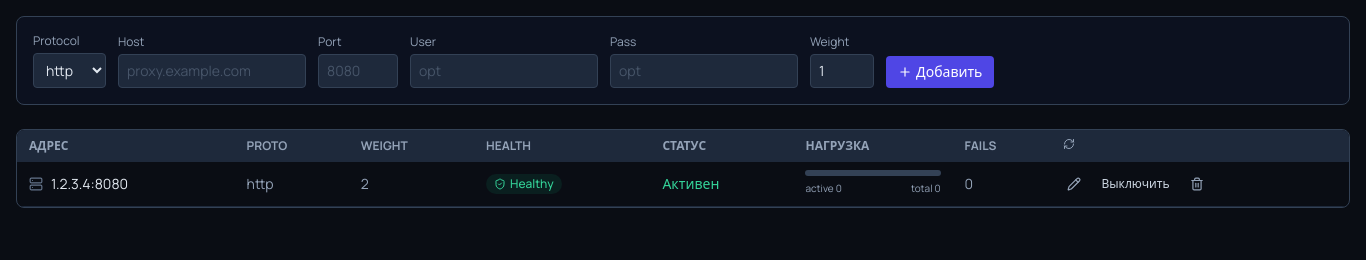
Test: clicking edit opens inline form pre-filled with proxy data
Click the button named "изменить": click(1074, 184) [1063,173,1085,195]
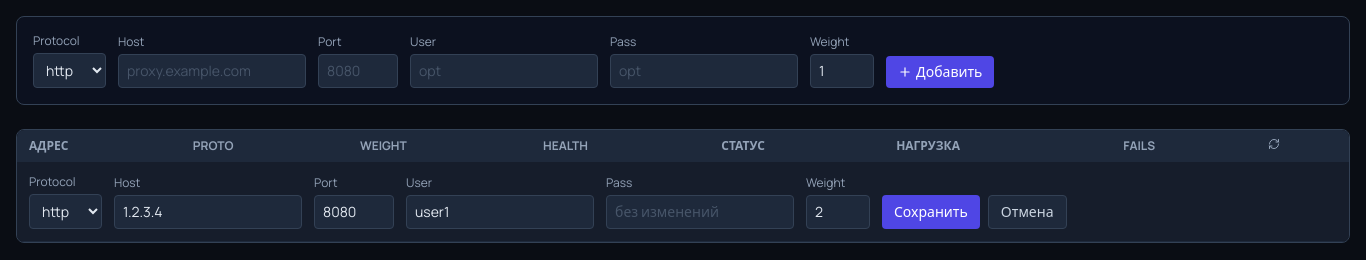
Now the 1st field showing "1.2.3.4" is shown, box [114,195,302,229]
Now the 2nd number field showing "8080" is shown, box [314,195,394,229]
Now the 2nd field showing "user1" is shown, box [406,195,594,229]
